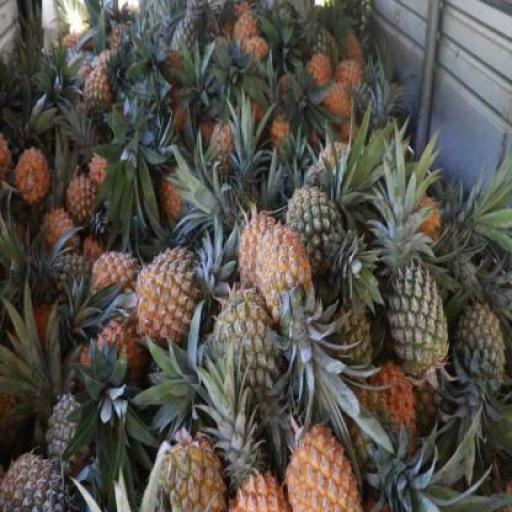------------------------------: (208, 288, 278, 398), (286, 185, 350, 284), (157, 443, 229, 512), (82, 66, 116, 124)
Pineapple - v8 v1: (136, 244, 206, 346), (283, 422, 363, 511), (258, 228, 318, 330), (239, 214, 288, 302), (92, 246, 138, 307), (64, 170, 102, 224), (14, 146, 48, 204)
